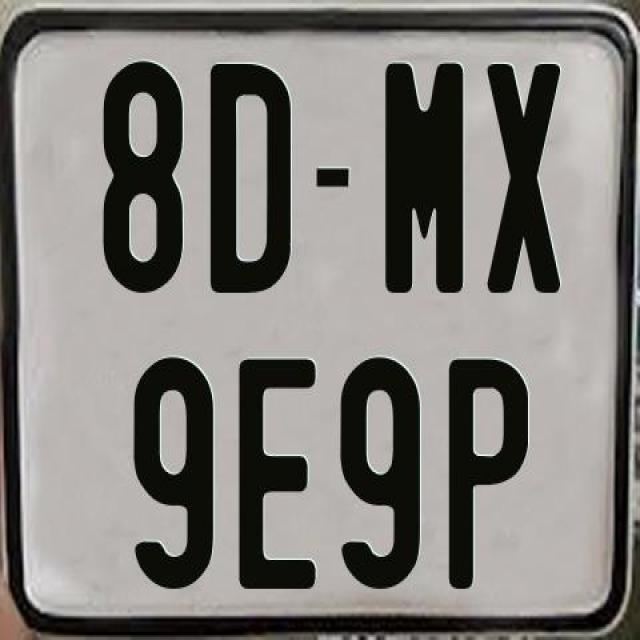8: (98, 59, 182, 291)
9: (338, 354, 426, 596), (130, 354, 218, 588)
D: (208, 61, 295, 292)
E: (237, 355, 316, 587)
M: (384, 61, 466, 301)
P: (445, 357, 531, 590)
X: (487, 61, 560, 296)
